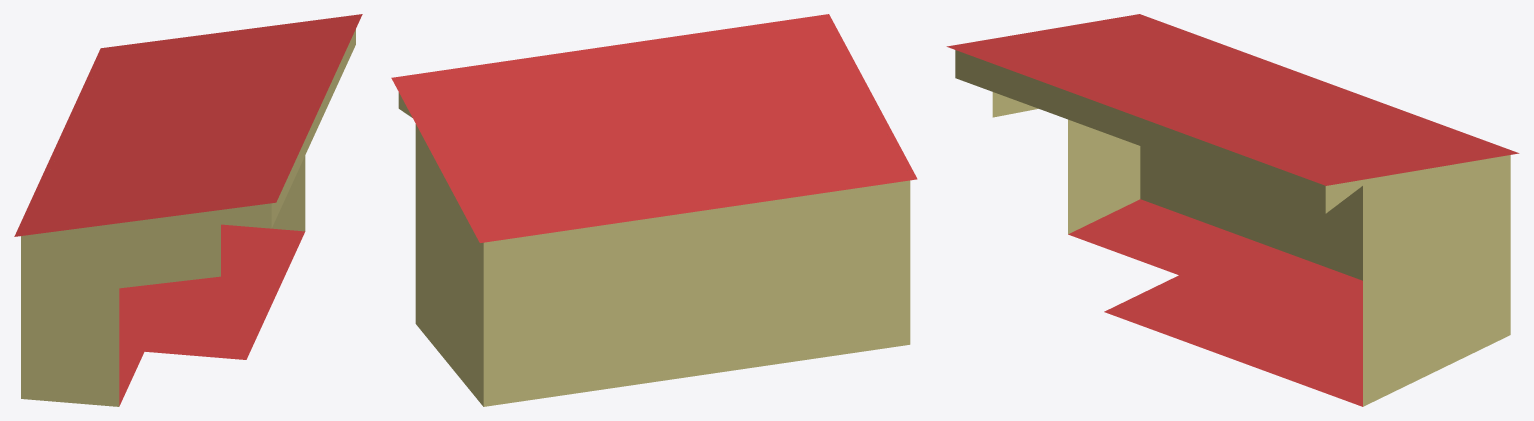
The picture shows the model from 3 angles, left to right: view 1: azimuth 30°, elevation 25°; view 2: azimuth 150°, elevation 25°; view 3: azimuth 270°, elevation 25°; orthographic projection. The views are drawn at different scales.
Size of the model in its own units: 21.58 by 22.39 by 10.46.
